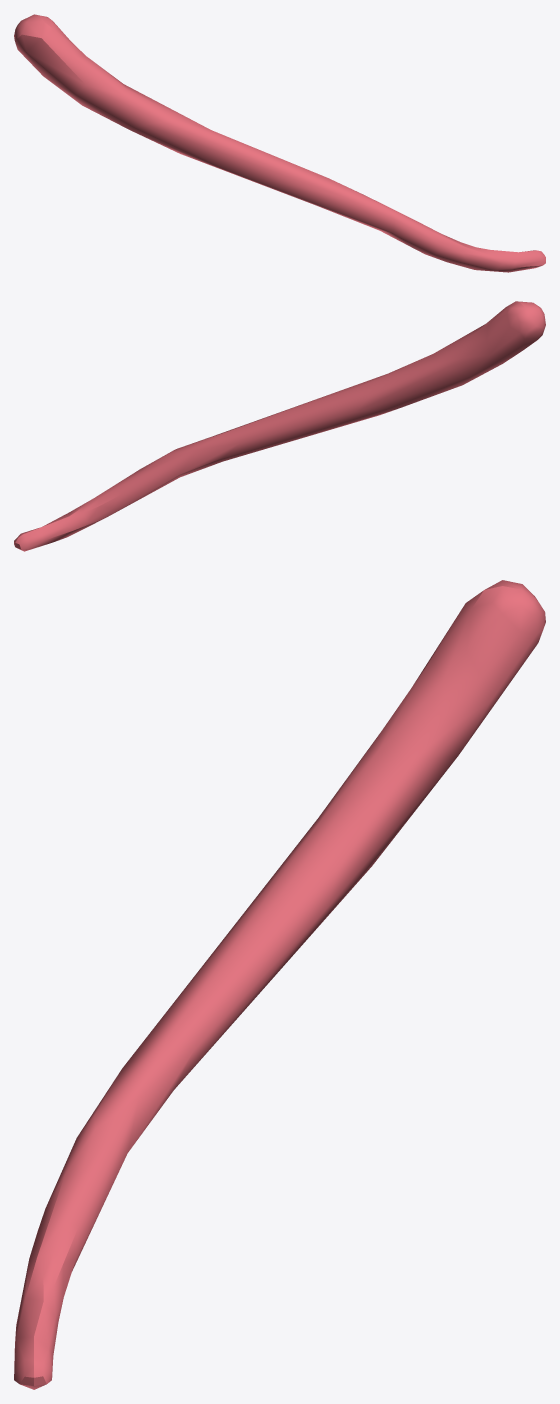
The model's file is fma49484_fj5072.glb.
The picture shows the model from 3 angles, top to bottom: view 1: azimuth 30°, elevation 25°; view 2: azimuth 210°, elevation 25°; view 3: azimuth 270°, elevation 25°; orthographic projection. The views are drawn at different scales.
Visible parts, largest first — view 1: FMA49484_FJ5072; view 2: FMA49484_FJ5072; view 3: FMA49484_FJ5072.
Boxes of the visible parts, x1,y1,x2,y2 form: FMA49484_FJ5072: (14,14,545,272); FMA49484_FJ5072: (14,301,545,551); FMA49484_FJ5072: (14,580,545,1389).
Bounding box in the file's own units: 0.0177 × 0.0106 × 0.0109.
